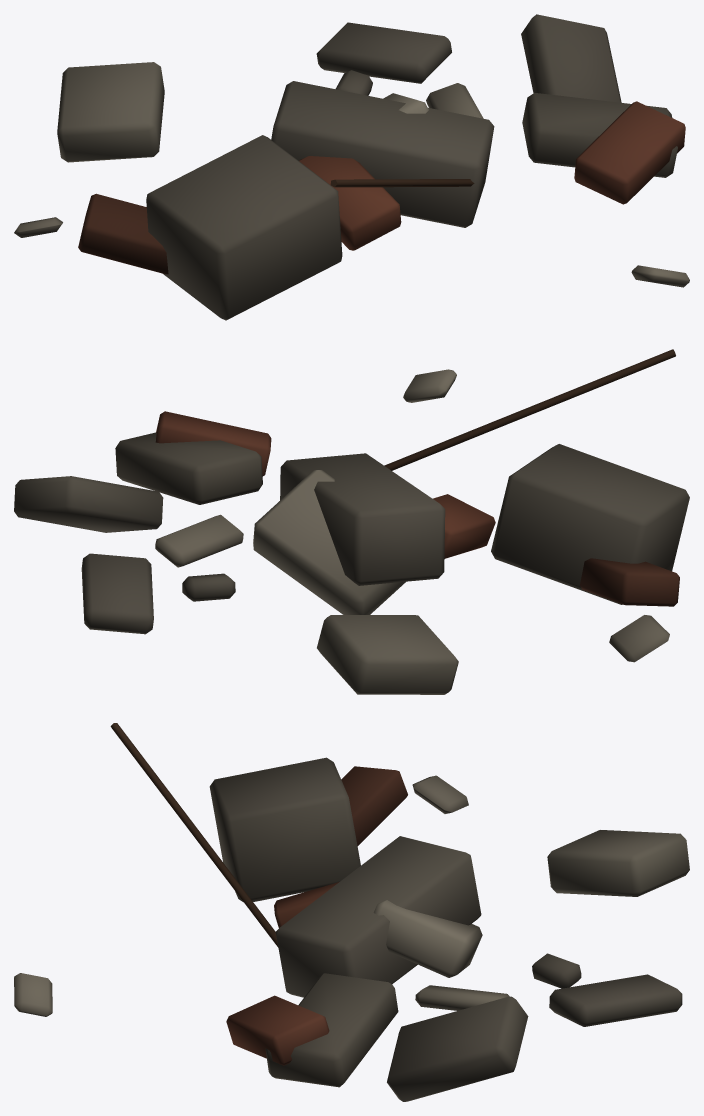
File: cascotes_b.glb
3 renders of one model, top to bottom at view 1: azimuth 30°, elevation 25°; view 2: azimuth 150°, elevation 25°; view 3: azimuth 270°, elevation 25°, orthographic.
Visible parts, largest first — view 1: cascotes_b.001; view 2: cascotes_b.001; view 3: cascotes_b.001.
Part boxes in pixels (x1=…): cascotes_b.001: x1=14, y1=14, x2=689, y2=320; cascotes_b.001: x1=14, y1=349, x2=689, y2=694; cascotes_b.001: x1=14, y1=723, x2=689, y2=1101.
Bounding box in the file's own units: 1.38 × 0.3782 × 1.31.
